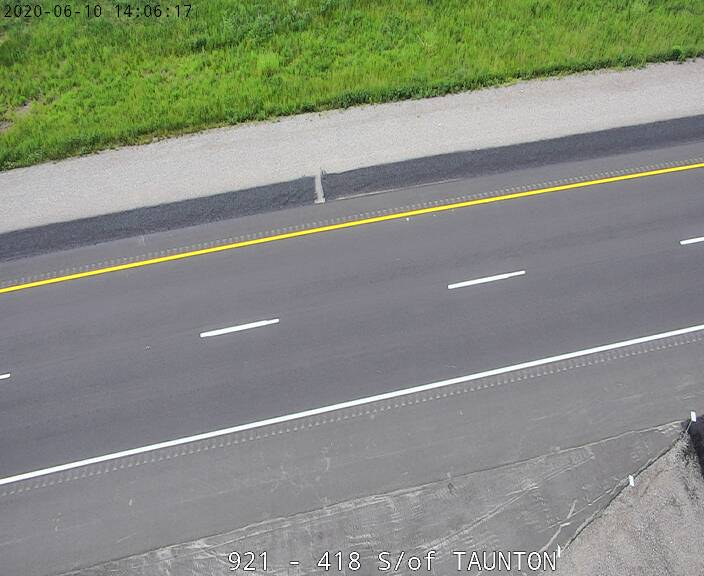time_stamp: (2, 2, 197, 22)
